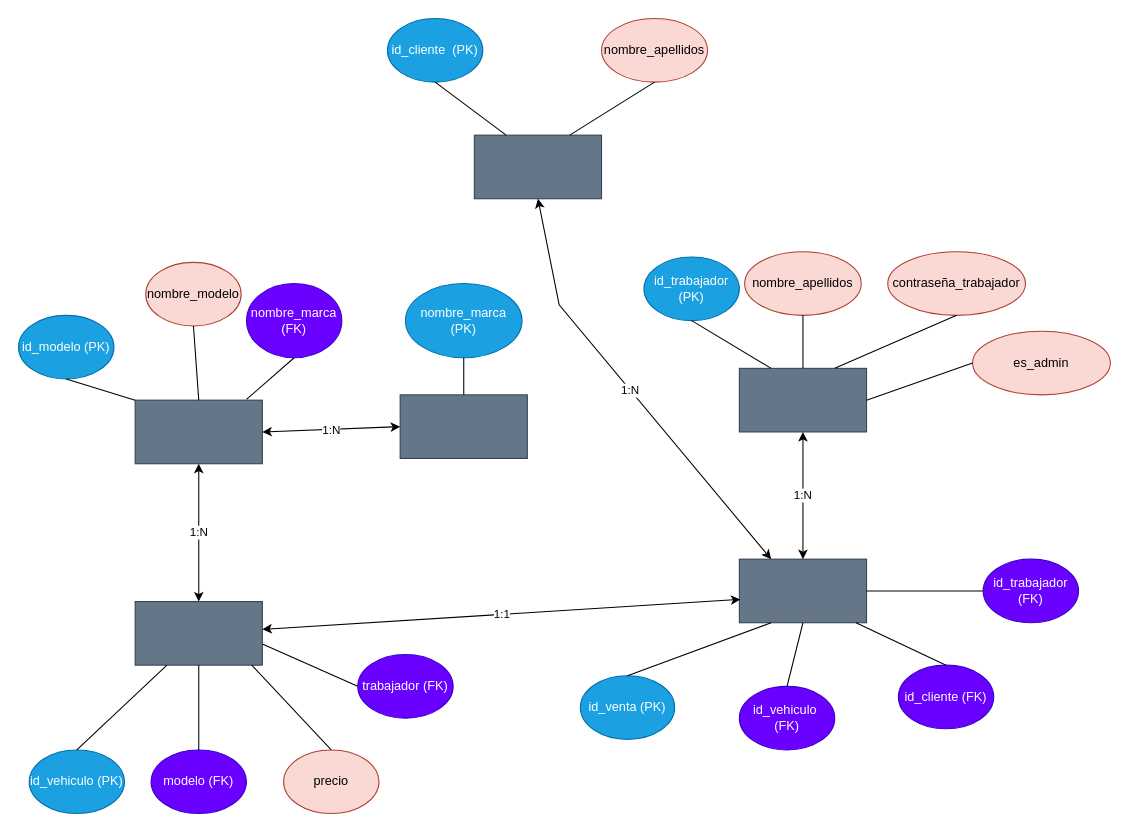
This 1129x832 diagram has some shape labels left out. The shapes that lost their labels are listed below. From the top down, each one's centre as x and y in pixels, then its label:
At (537,166): "Cliente".
At (802,399): "Trabajador".
At (198,431): "Modelo".
At (463,426): "Marca".
At (802,590): "Venta".
At (198,632): "Vehículo".
